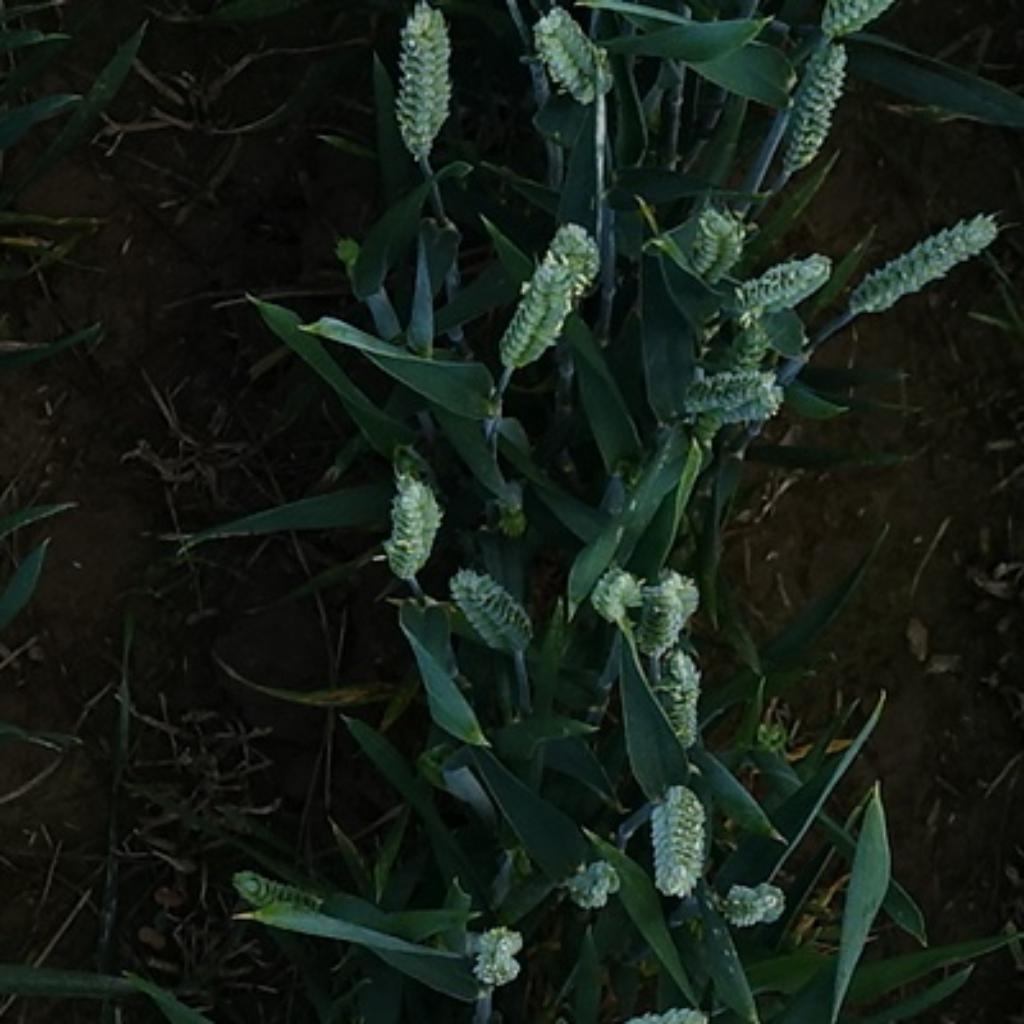0-0: (846, 211, 1003, 317), (507, 218, 606, 372), (394, 5, 460, 170), (668, 355, 796, 430), (786, 36, 855, 174), (637, 780, 716, 896), (642, 632, 711, 752), (529, 7, 614, 99), (382, 472, 448, 585), (737, 248, 837, 317), (624, 568, 698, 652), (454, 566, 532, 643), (683, 205, 759, 281), (696, 314, 780, 381), (713, 876, 793, 929), (464, 923, 529, 988), (558, 853, 622, 913), (228, 872, 320, 911), (591, 555, 642, 624)
